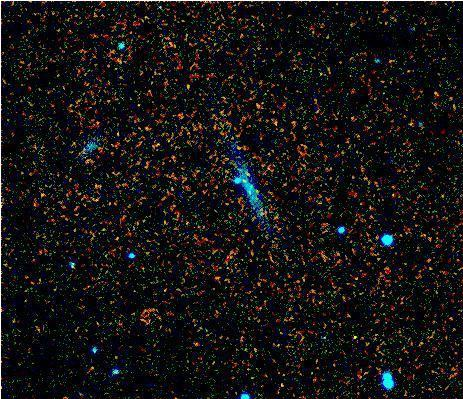star: (337, 323, 367, 353)
